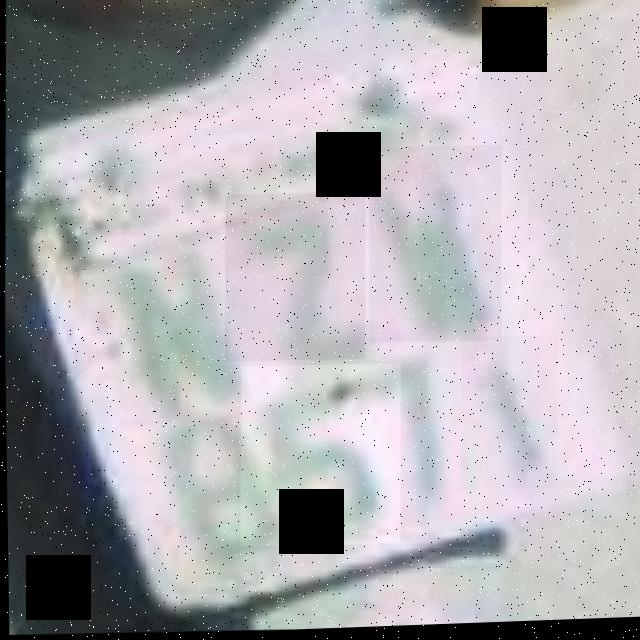1: (457, 337, 557, 495)
5: (236, 363, 401, 551)
B: (365, 146, 503, 347)
N: (105, 229, 250, 428)
Z: (221, 191, 366, 366)
